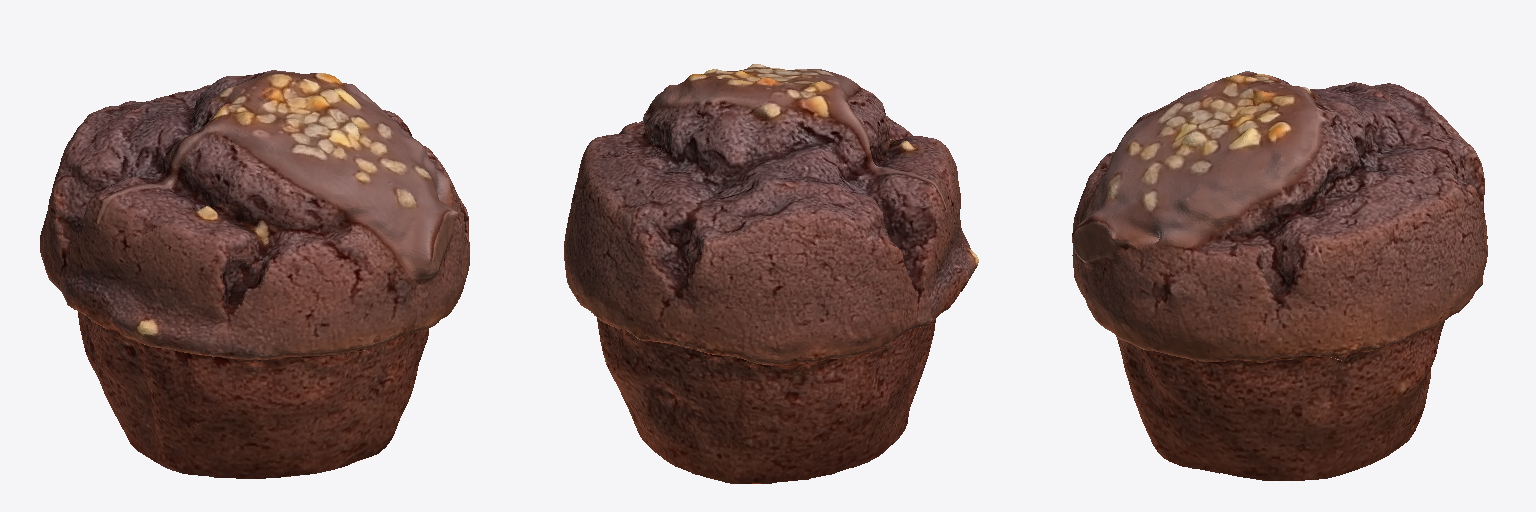
The picture shows the model from 3 angles: view 1: azimuth 30°, elevation 25°; view 2: azimuth 150°, elevation 25°; view 3: azimuth 270°, elevation 25°; orthographic projection.
Bounding box in the file's own units: 14.22 × 13.01 × 14.4.
1 materials, 1 textured.